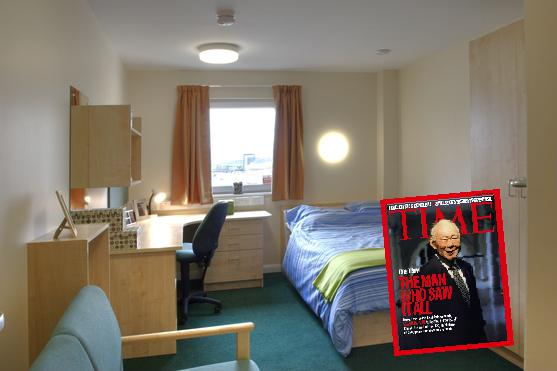times: (379, 186, 514, 357)
